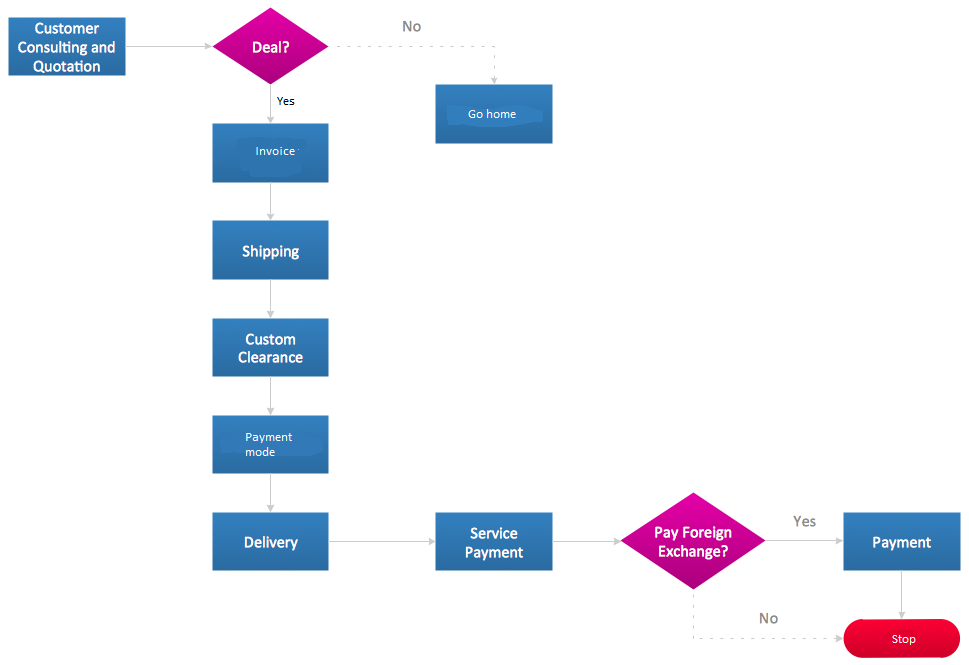arrow: (689, 585, 846, 645), (327, 43, 501, 87), (323, 534, 439, 547), (122, 40, 216, 52), (760, 534, 843, 546), (552, 533, 627, 546), (895, 569, 909, 622), (263, 469, 278, 515), (264, 372, 277, 417), (265, 78, 277, 125), (266, 277, 278, 320), (264, 180, 276, 222)
decision: (621, 490, 768, 592), (211, 2, 333, 85)
process: (209, 218, 333, 284), (209, 412, 332, 478), (210, 118, 331, 185), (432, 508, 558, 572), (4, 14, 128, 79), (433, 82, 557, 147), (840, 509, 963, 574), (209, 509, 333, 572), (209, 316, 331, 379)
terminator: (843, 617, 962, 662)
text: (13, 20, 120, 77), (650, 523, 735, 562), (463, 525, 528, 563), (236, 330, 306, 365), (238, 242, 302, 264), (242, 431, 294, 458), (240, 533, 300, 553), (869, 536, 937, 553), (466, 105, 517, 120), (252, 141, 297, 158), (250, 36, 291, 54), (886, 631, 918, 650), (790, 512, 818, 530), (398, 18, 423, 34), (757, 609, 779, 627), (273, 95, 296, 109)
